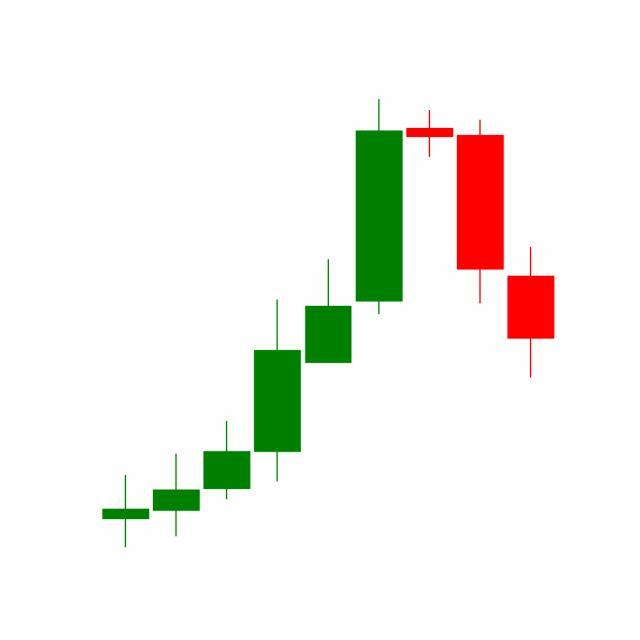Hikkake Pattern: (252, 100, 506, 488)
